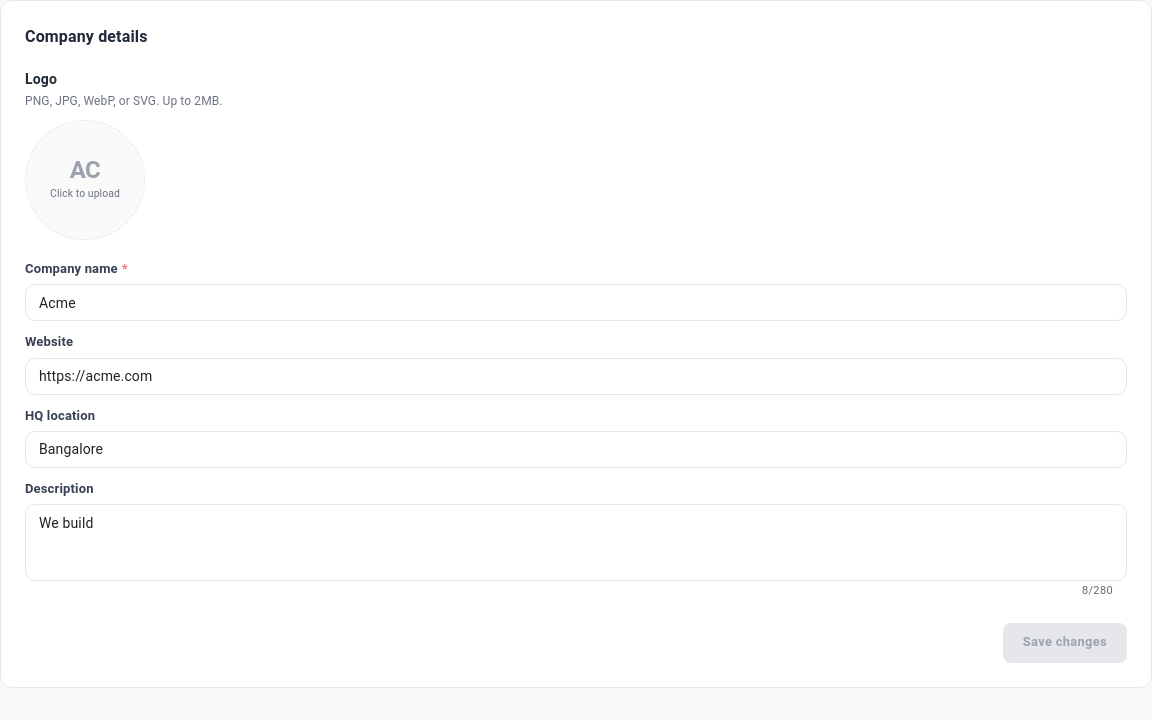
it: CompanyTab › Save is disabled until a field changes
Expected: the button "Save changes" is disabled, [1003,623,1127,663]
In the field labelled "Company name *": (576, 303) [25,284,1127,321], type "!"
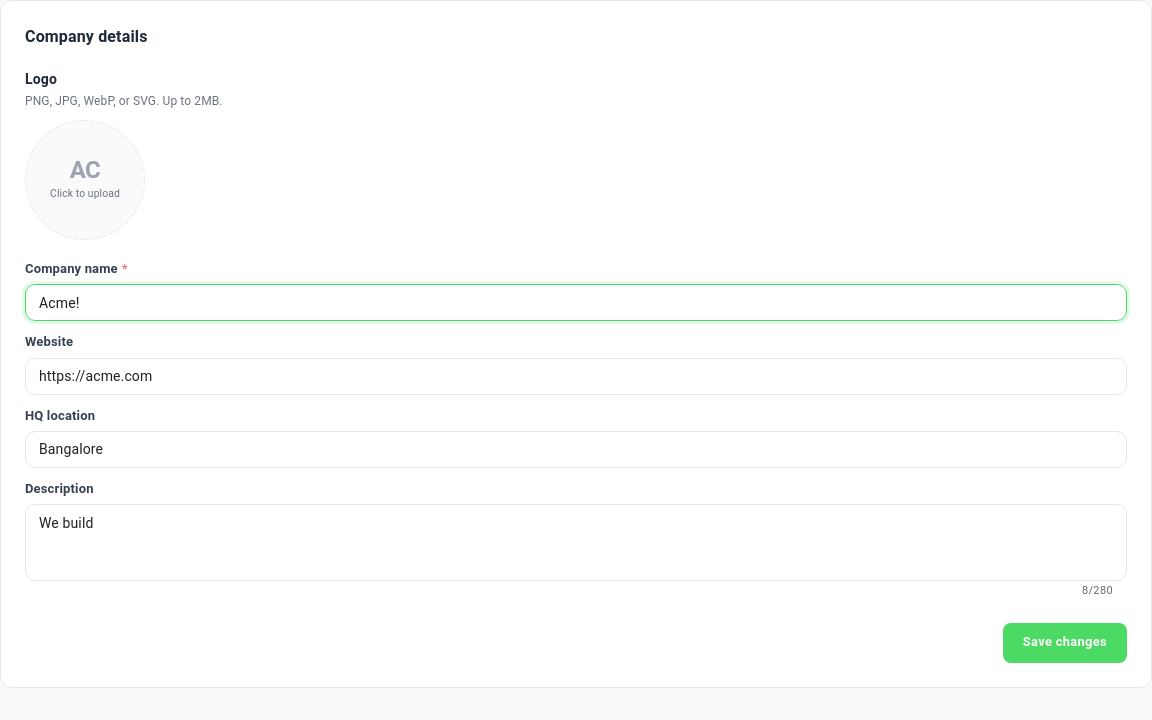
Expected: the button "Save changes" is enabled, [1003,623,1127,663]
